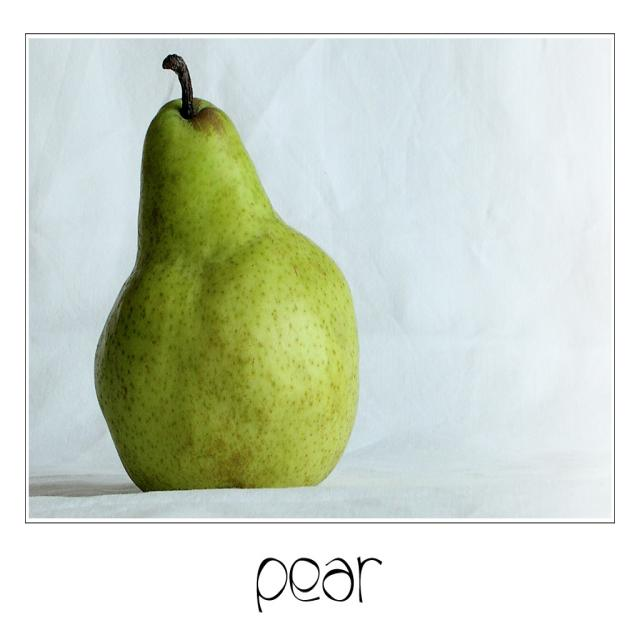pear: (94, 93, 358, 492)
